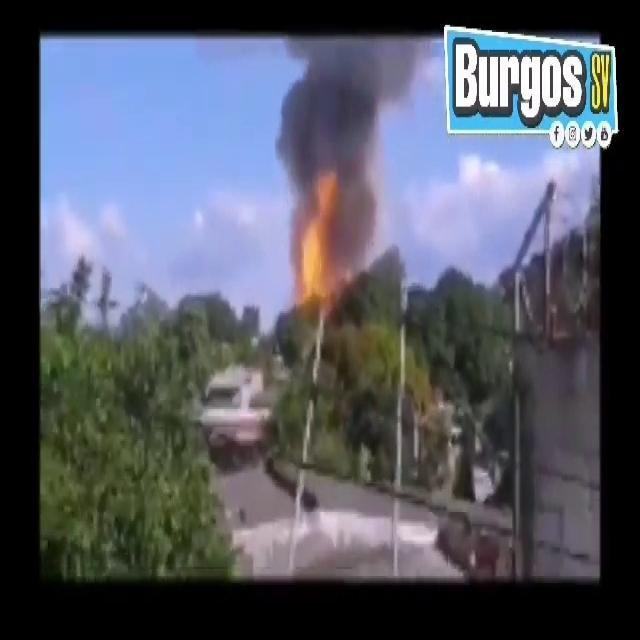Fire: (297, 228, 333, 300)
Smoke: (273, 39, 395, 214)
